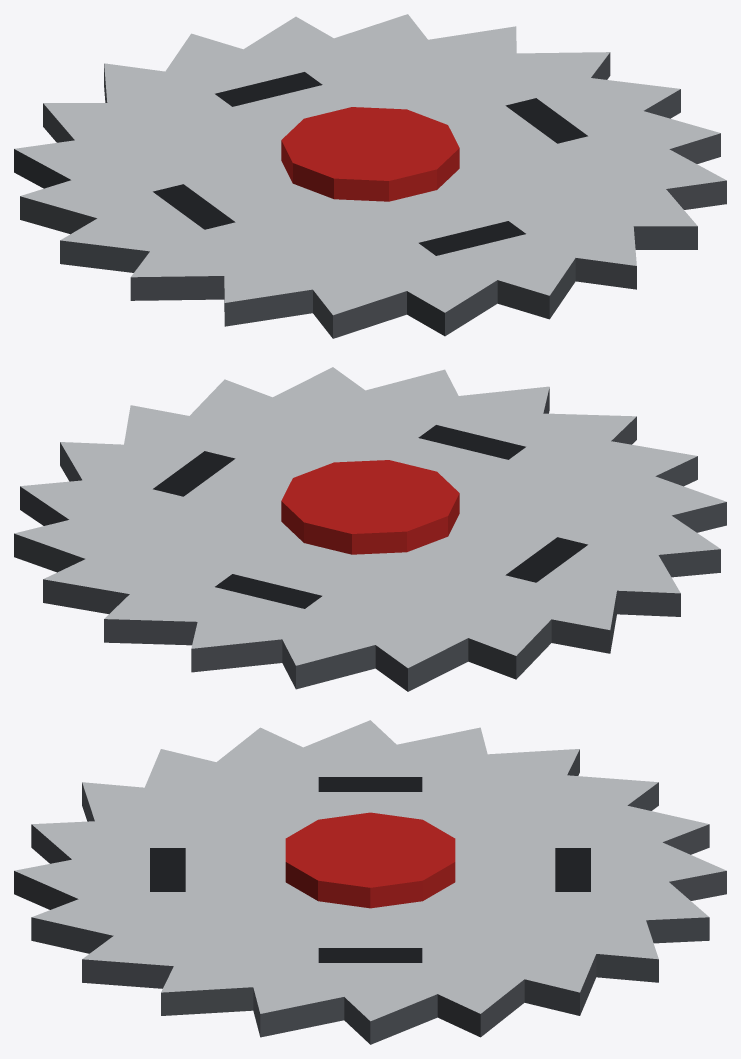
Rendered from Vehicles_CybertruckSaw.fbx.
The picture shows the model from 3 angles, top to bottom: view 1: azimuth 30°, elevation 25°; view 2: azimuth 150°, elevation 25°; view 3: azimuth 270°, elevation 25°; orthographic projection.
Parts seen in each view (by area): view 1: Vehicles_CybertruckSaw; view 2: Vehicles_CybertruckSaw; view 3: Vehicles_CybertruckSaw.
Boxes of the visible parts, x1=… form: Vehicles_CybertruckSaw: x1=14, y1=14, x2=726, y2=338; Vehicles_CybertruckSaw: x1=14, y1=367, x2=726, y2=691; Vehicles_CybertruckSaw: x1=14, y1=720, x2=726, y2=1044.
Size of the model in its own units: 44 by 4.4 by 44.
